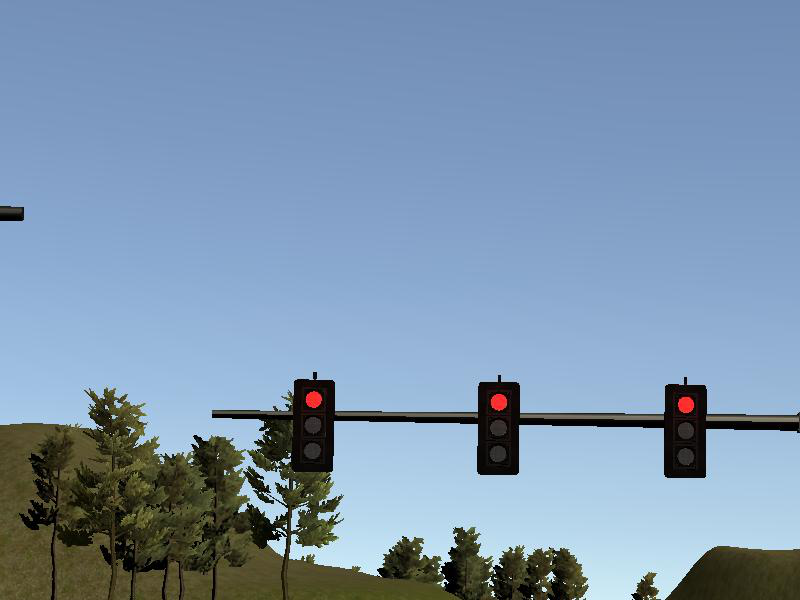red: (664, 384, 707, 478), (478, 381, 520, 475), (293, 379, 335, 471)
